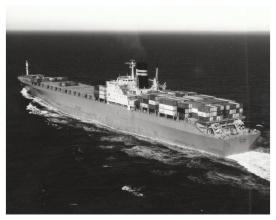Cargoship: (19, 53, 261, 150)
